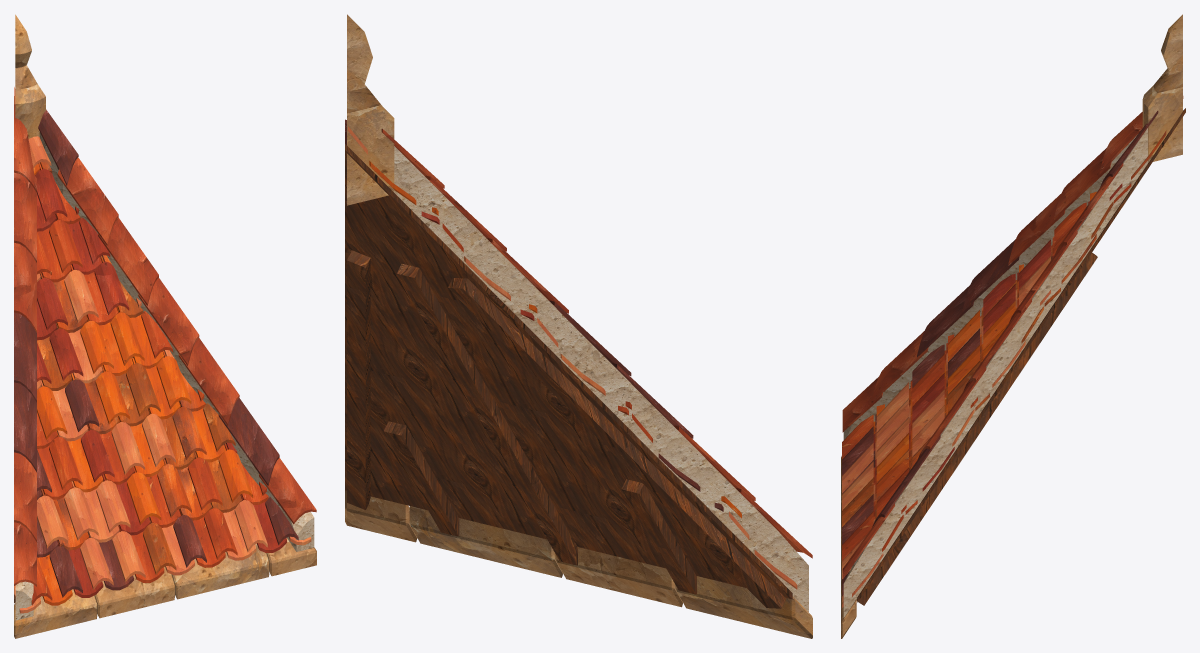
Rendered from roof_spire__clay_brick.glb.
The picture shows the model from 3 angles, left to right: view 1: azimuth 30°, elevation 25°; view 2: azimuth 150°, elevation 25°; view 3: azimuth 270°, elevation 25°; orthographic projection. The views are drawn at different scales.
Parts seen in each view (by area): view 1: model; view 2: model; view 3: model.
Part boxes in pixels (x1,y1,x2,y2): model: (14,14,316,638); model: (345,14,812,638); model: (841,14,1185,638).
Size of the model in its own units: 1.97 by 2.97 by 1.71.
12 materials, 12 textured.
